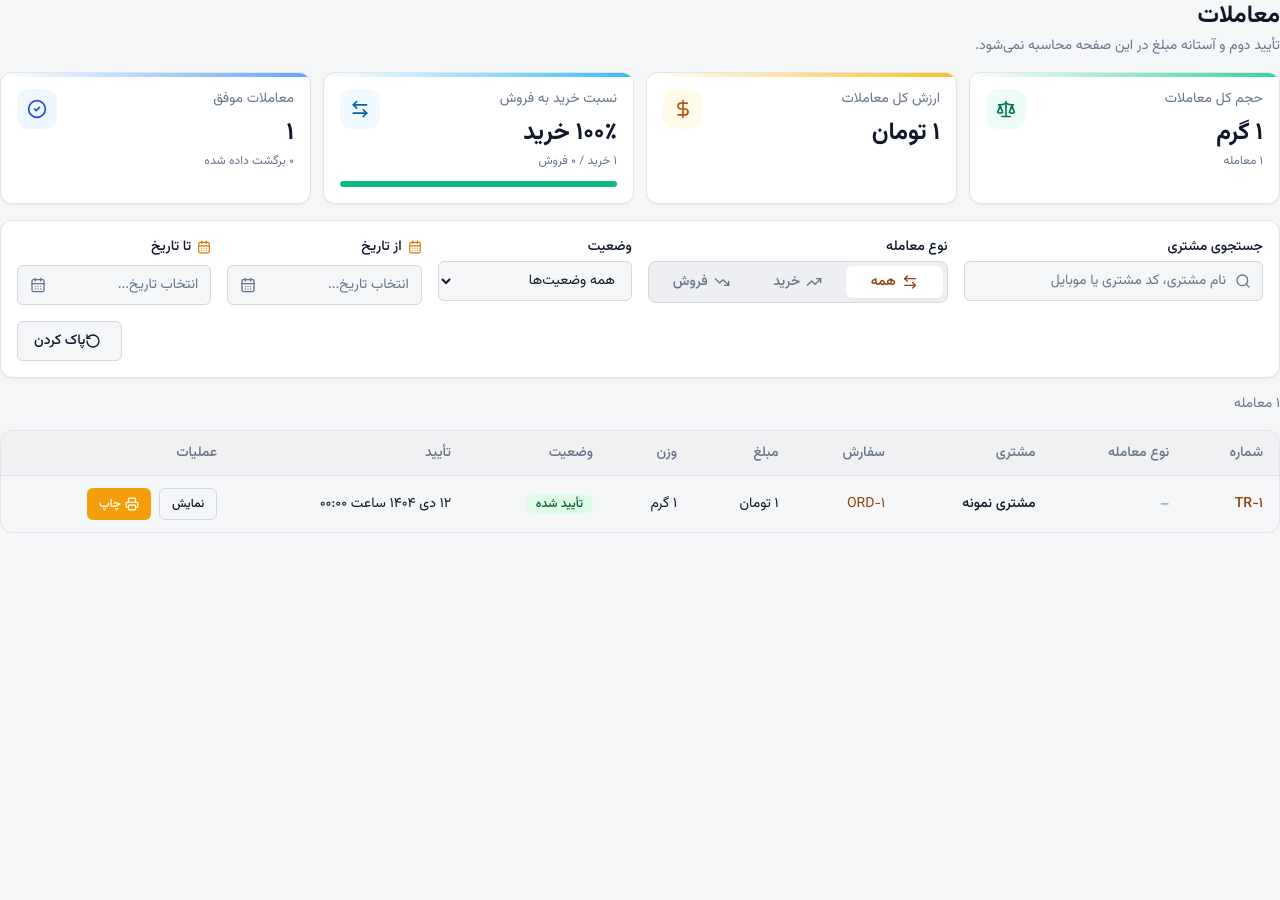
Test: trades list actions › opens the dialog without printing when view is clicked
This screenshot has width=1280, height=900.
Click the button with aria-label "مشاهده معامله TR-1": (188, 504) [159,488,217,520]
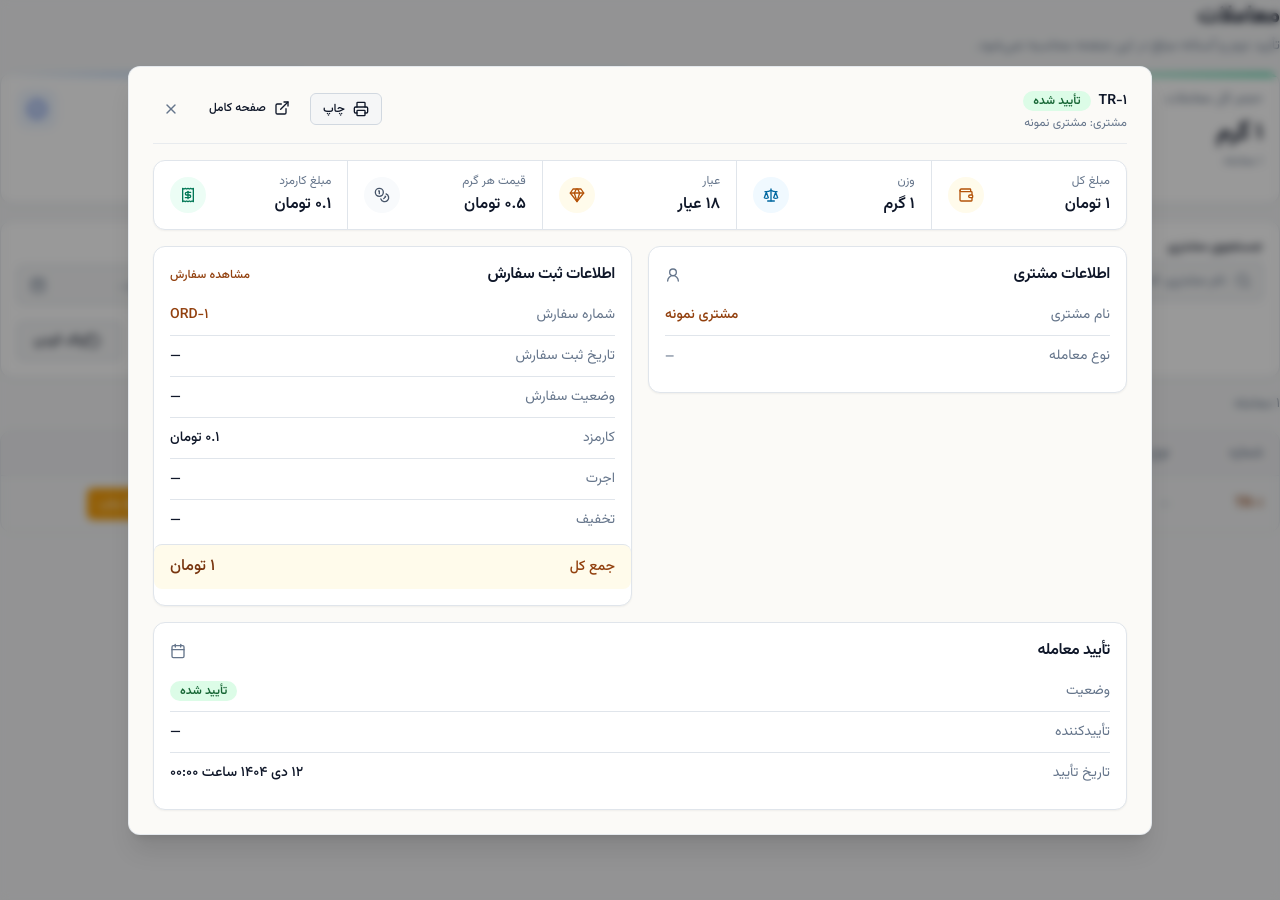
Result: the dialog is shown
